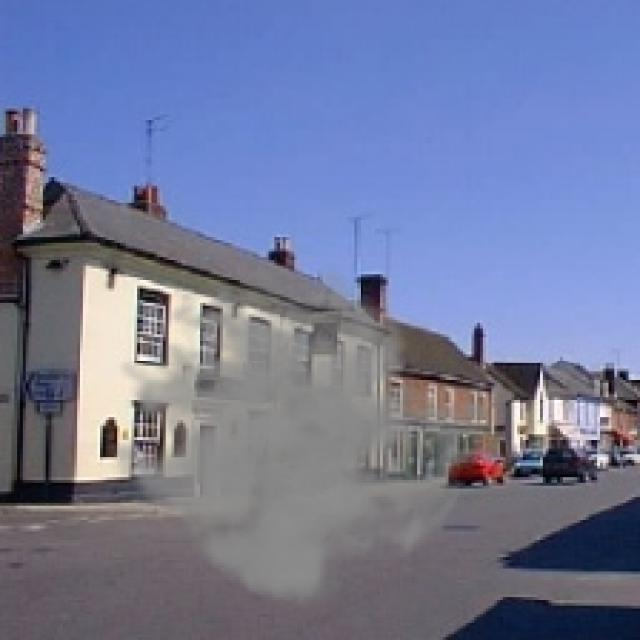smoke: (94, 266, 503, 611)
